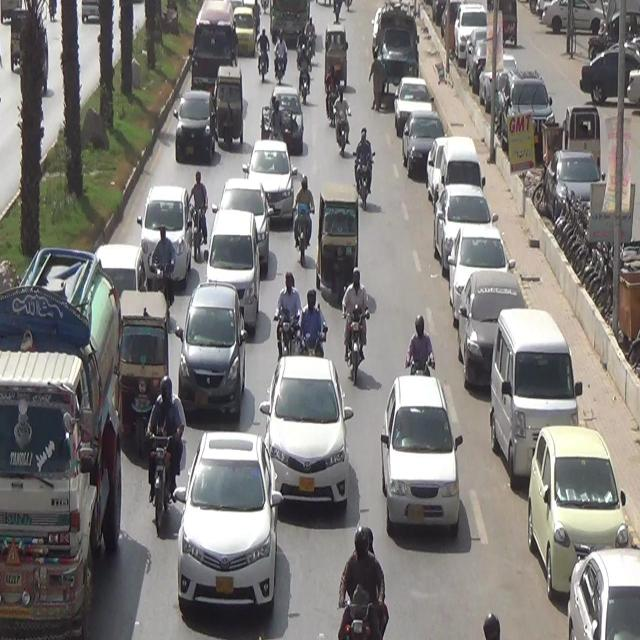car: (182, 425, 280, 630), (264, 359, 355, 517), (371, 378, 463, 524), (177, 283, 250, 416), (205, 222, 266, 340), (158, 87, 226, 175), (238, 136, 297, 220), (138, 203, 198, 284), (222, 182, 267, 257)
motorbike: (140, 378, 188, 543), (340, 534, 401, 640), (341, 264, 377, 392), (403, 295, 439, 381), (349, 128, 375, 225), (274, 270, 305, 350), (298, 290, 328, 364), (333, 94, 358, 158), (292, 42, 313, 102), (299, 12, 321, 66), (268, 33, 291, 83), (257, 24, 277, 80)
truck: (0, 248, 149, 640)
